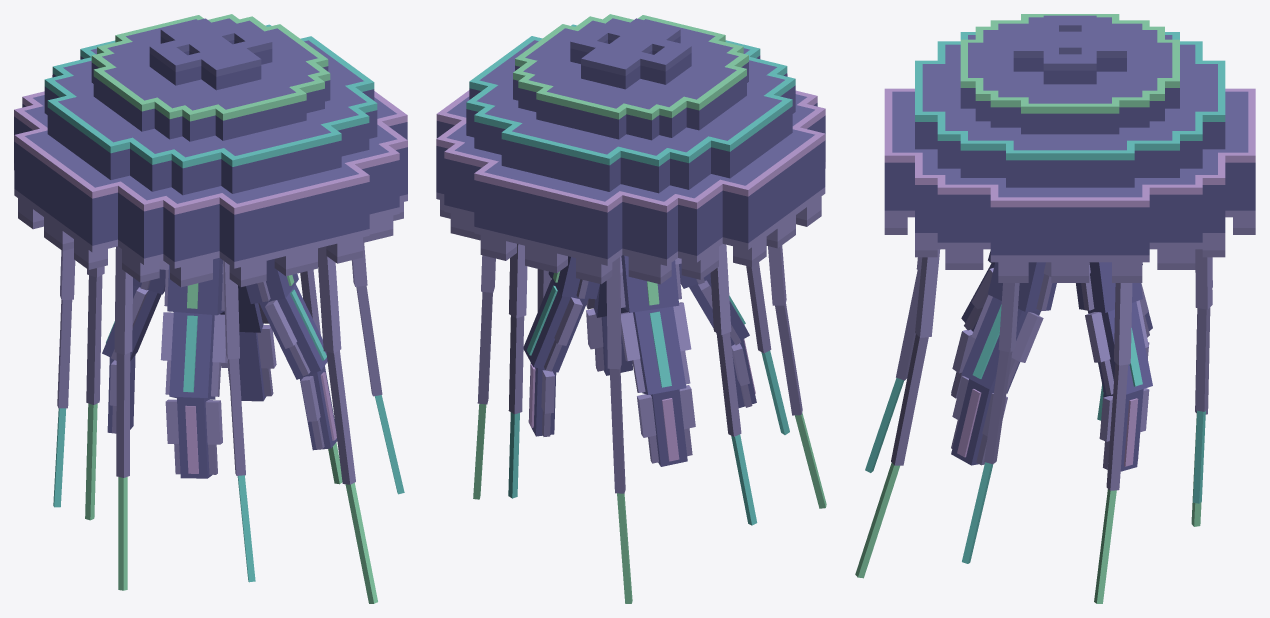
File: AuroraJelly.glb
3 views of the same model, side by side, from view 1: azimuth 30°, elevation 25°; view 2: azimuth 150°, elevation 25°; view 3: azimuth 270°, elevation 25° (orthographic). The views are drawn at different scales.
Parts seen in each view (by area): view 1: Bell, Bell_Glow, SkirtB, A4b, SkirtL, A4c, A1b, A2c, A4a, T1b, T1a, T5b (+21 smaller); view 2: Bell, Bell_Glow, SkirtF, A3b, SkirtL, A3c, A2b, A3a, T5a, A2c, T5b, T6b (+19 smaller); view 3: Bell, Bell_Glow, SkirtR, A1b, A2b, A1c, A1a, T1b, A2a, T3b, A2c, T2b (+18 smaller).
Part boxes in pixels (x1=…): Bell: x1=14, y1=18, x2=407, y2=261; Bell_Glow: x1=14, y1=14, x2=407, y2=214; SkirtB: x1=163, y1=207, x2=399, y2=287; A4b: x1=160, y1=312, x2=227, y2=399; SkirtL: x1=14, y1=163, x2=163, y2=282; A4c: x1=165, y1=397, x2=222, y2=478; A1b: x1=259, y1=284, x2=327, y2=379; A2c: x1=221, y1=325, x2=276, y2=401; A4a: x1=159, y1=258, x2=224, y2=315; T1b: x1=326, y1=350, x2=355, y2=484; T1a: x1=318, y1=246, x2=341, y2=353; T5b: x1=86, y1=275, x2=102, y2=404; Bell: x1=436, y1=18, x2=825, y2=259; Bell_Glow: x1=436, y1=14, x2=825, y2=212; SkirtF: x1=444, y1=205, x2=677, y2=284; A3b: x1=621, y1=302, x2=691, y2=394; SkirtL: x1=678, y1=162, x2=825, y2=279; A3c: x1=637, y1=385, x2=695, y2=466; A2b: x1=523, y1=279, x2=588, y2=372; A3a: x1=620, y1=255, x2=681, y2=312; T5a: x1=606, y1=257, x2=621, y2=369; A2c: x1=528, y1=363, x2=556, y2=436; T5b: x1=609, y1=368, x2=625, y2=493; T6b: x1=716, y1=332, x2=741, y2=436; Bell: x1=884, y1=15, x2=1255, y2=255; Bell_Glow: x1=884, y1=14, x2=1255, y2=207; SkirtR: x1=937, y1=242, x2=1202, y2=282; A1b: x1=961, y1=295, x2=1043, y2=393; A2b: x1=1085, y1=300, x2=1152, y2=396; A1c: x1=951, y1=376, x2=1007, y2=465; A1a: x1=988, y1=262, x2=1056, y2=311; T1b: x1=891, y1=334, x2=928, y2=465; A2a: x1=1076, y1=262, x2=1142, y2=312; T3b: x1=1106, y1=363, x2=1128, y2=490; A2c: x1=1099, y1=388, x2=1149, y2=471; T2b: x1=984, y1=350, x2=1012, y2=464.
Size of the model in its own units: 22.05 by 33.78 by 23.81.
